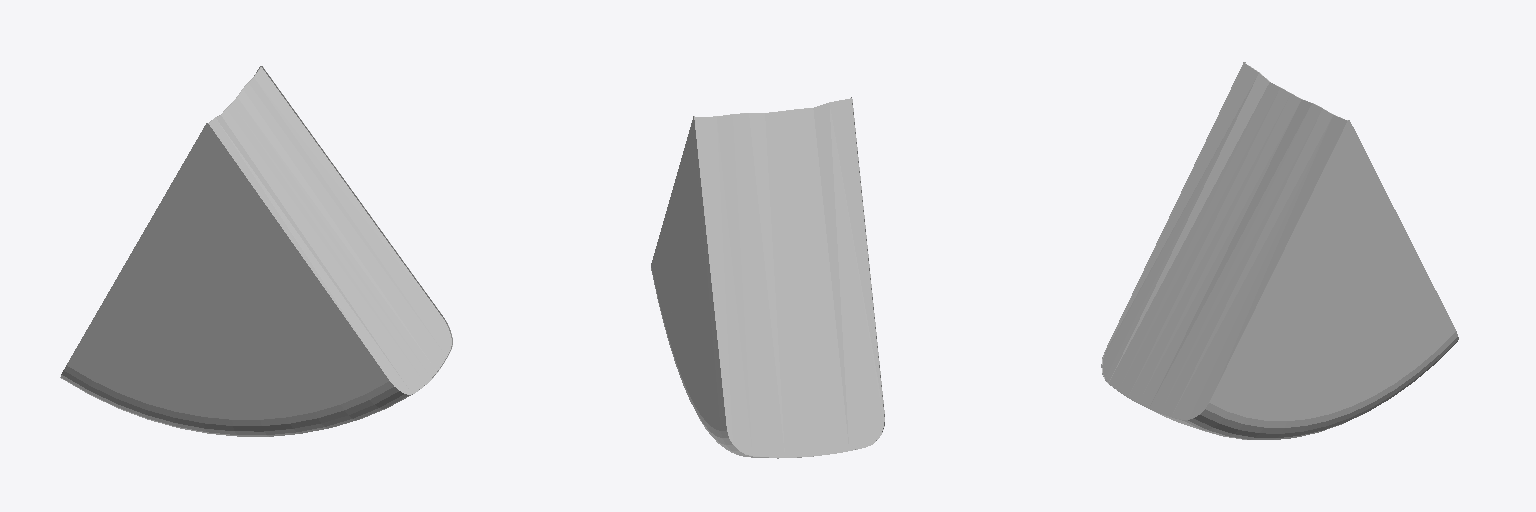
Rendered from cheese.obj.
The picture shows the model from 3 angles: view 1: azimuth 30°, elevation 25°; view 2: azimuth 150°, elevation 25°; view 3: azimuth 270°, elevation 25°; orthographic projection.
Visible parts, largest first — view 1: ChamferCyl01.001; view 2: ChamferCyl01.001; view 3: ChamferCyl01.001.
Boxes of the visible parts, box(x1,y1,x2,y2) form: ChamferCyl01.001: box(60, 66, 452, 436); ChamferCyl01.001: box(651, 97, 884, 458); ChamferCyl01.001: box(1101, 62, 1458, 439).
Size of the model in its own units: 2.5 by 2.5 by 2.5.